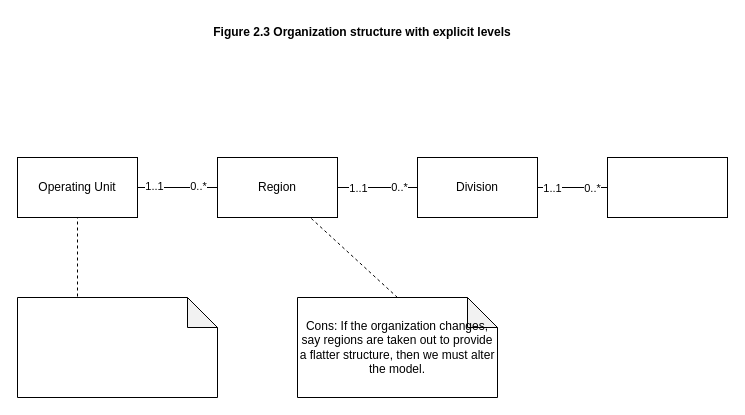
Image size: 745x415. Some labels were removed from this diagram. Here are the shapes that lost their labels. From the top down, the centre of each, then its label:
At point 667,187: "Sales Office".
At point 117,347: "Pros: It's simple and good enough if the organization doesn't change.".
